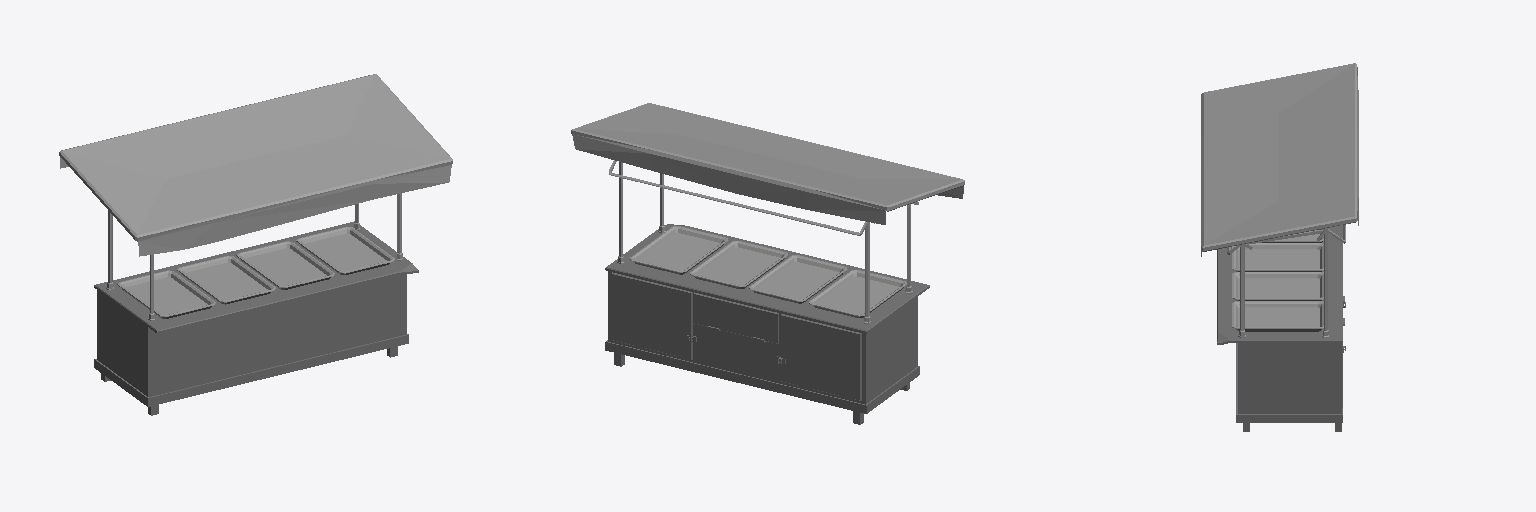
3 views of the same model, side by side, from view 1: azimuth 30°, elevation 25°; view 2: azimuth 150°, elevation 25°; view 3: azimuth 270°, elevation 25° (orthographic).
Visible parts, largest first — view 1: top_city_stall01.001, estructura_city_stall01, comida_city_stall01.002; view 2: estructura_city_stall01, top_city_stall01.001, comida_city_stall01.002; view 3: top_city_stall01.001, estructura_city_stall01, comida_city_stall01.002.
Part boxes in pixels (x1,y1,x2,y2): top_city_stall01.001: (59, 74, 452, 256); estructura_city_stall01: (94, 221, 418, 415); comida_city_stall01.002: (106, 193, 402, 320); estructura_city_stall01: (605, 224, 929, 424); top_city_stall01.001: (571, 103, 964, 224); comida_city_stall01.002: (609, 160, 918, 323); top_city_stall01.001: (1201, 63, 1358, 256); estructura_city_stall01: (1217, 225, 1345, 431); comida_city_stall01.002: (1227, 225, 1345, 337).
Bounding box in the file's own units: 10.73 × 7.5 × 4.65.
Materials: 3 (1 with a texture image).